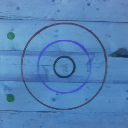Axe Tip: (109, 53, 123, 55)
